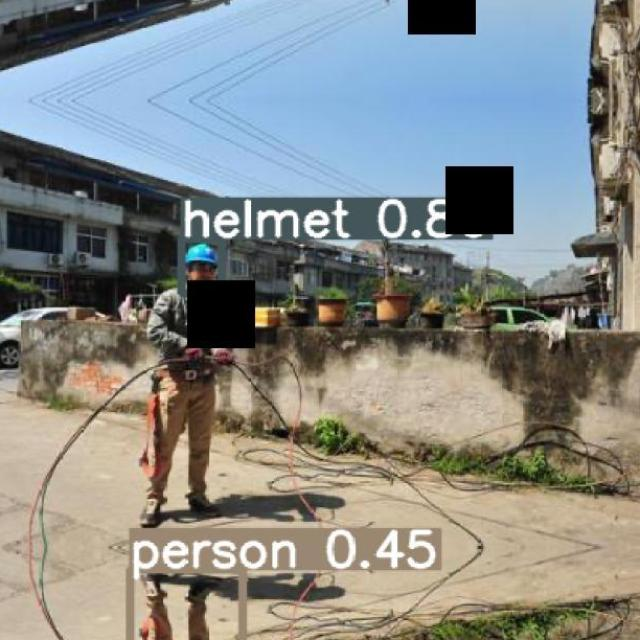helmet: (183, 242, 218, 266)
